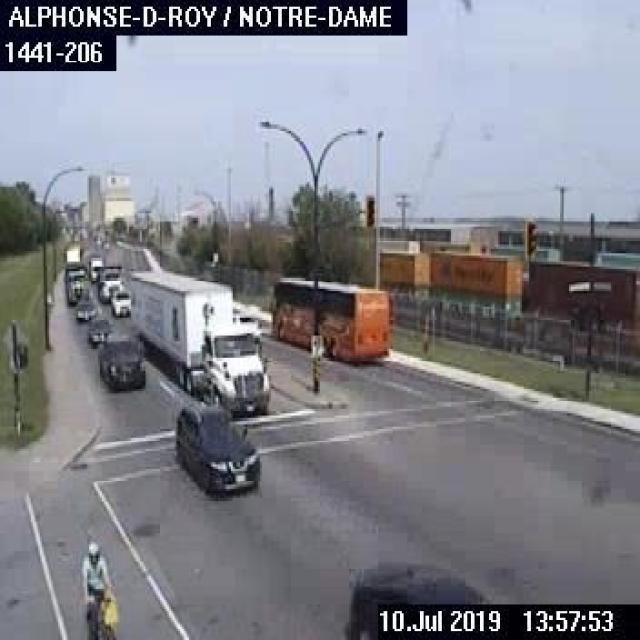bus: (267, 273, 389, 360)
cyclist: (78, 538, 116, 638)
vehicle: (125, 265, 269, 417), (344, 558, 487, 638), (169, 398, 262, 500), (96, 335, 147, 393), (92, 261, 120, 303), (62, 262, 89, 304), (86, 315, 110, 346), (74, 296, 96, 322), (108, 289, 128, 317)
